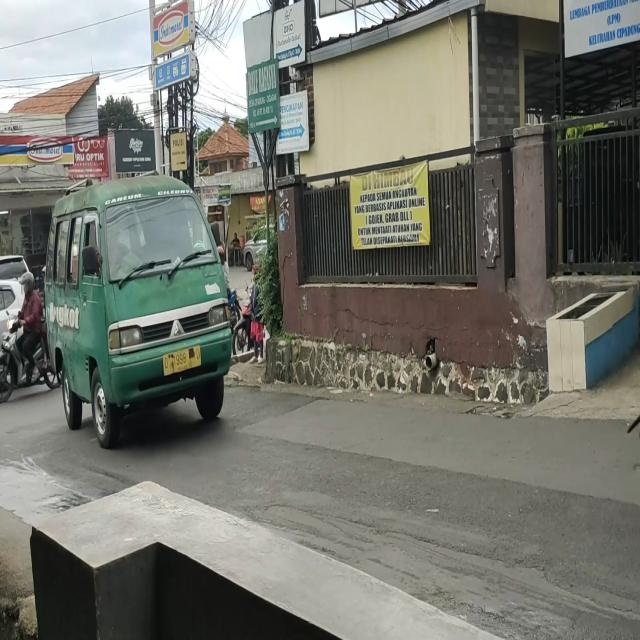helmet: (19, 270, 35, 296)
